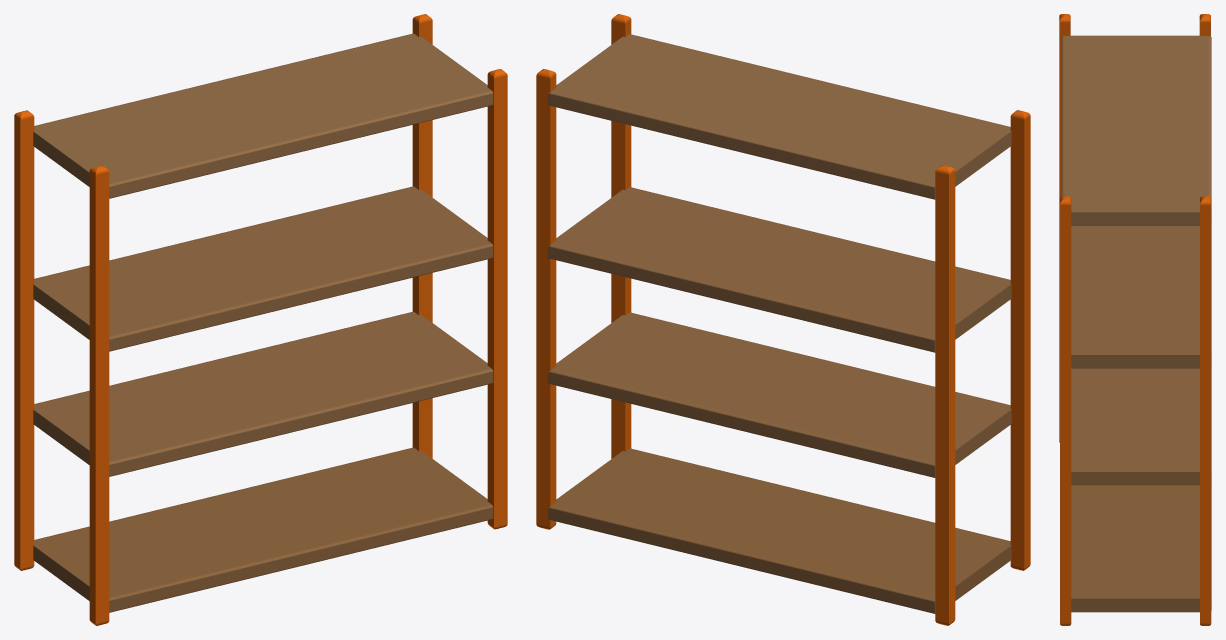
Rendered from shelf.fbx.
The picture shows the model from 3 angles, left to right: view 1: azimuth 30°, elevation 25°; view 2: azimuth 150°, elevation 25°; view 3: azimuth 270°, elevation 25°; orthographic projection. The views are drawn at different scales.
Parts seen in each view (by area): view 1: Cube.001, Cube.002, Cube.003, Cube.004, Cube.057; view 2: Cube.001, Cube.003, Cube.002, Cube.004, Cube.057; view 3: Cube.001, Cube.002, Cube.004, Cube.003, Cube.057.
Part boxes in pixels (x1=…): Cube.001: x1=33, y1=33, x2=493, y2=198; Cube.002: x1=33, y1=186, x2=493, y2=351; Cube.003: x1=33, y1=311, x2=493, y2=476; Cube.004: x1=33, y1=447, x2=493, y2=612; Cube.057: x1=14, y1=14, x2=507, y2=625; Cube.001: x1=548, y1=34, x2=1011, y2=199; Cube.003: x1=548, y1=312, x2=1011, y2=477; Cube.002: x1=548, y1=187, x2=1011, y2=352; Cube.004: x1=548, y1=448, x2=1011, y2=613; Cube.057: x1=536, y1=14, x2=1030, y2=625; Cube.001: x1=1061, y1=35, x2=1211, y2=225; Cube.002: x1=1071, y1=224, x2=1211, y2=368; Cube.004: x1=1071, y1=484, x2=1211, y2=612; Cube.003: x1=1071, y1=367, x2=1211, y2=485; Cube.057: x1=1059, y1=14, x2=1211, y2=625.
Bounding box in the file's own units: 208 × 221 × 71.35.
Materials: 1 (1 with a texture image).
